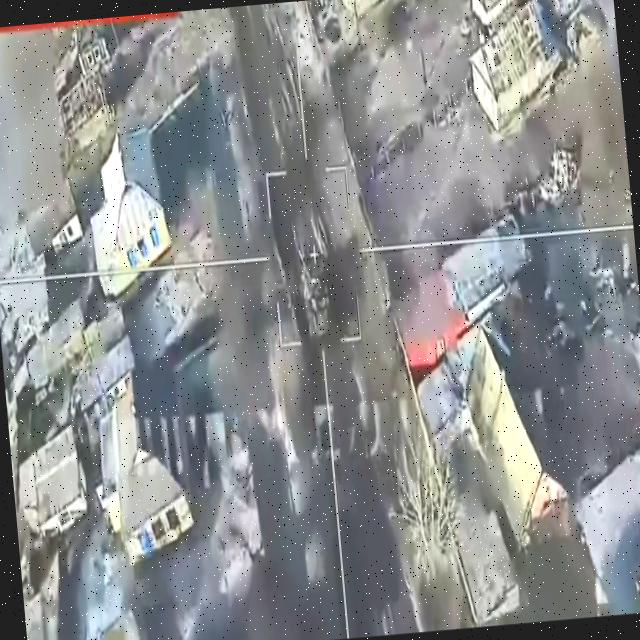MBT: (292, 224, 334, 344)
